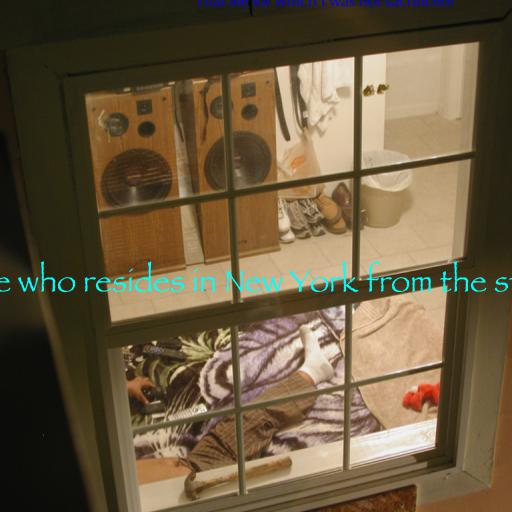Optima: (194, 0, 456, 7)
Papyrus: (0, 261, 512, 293)
